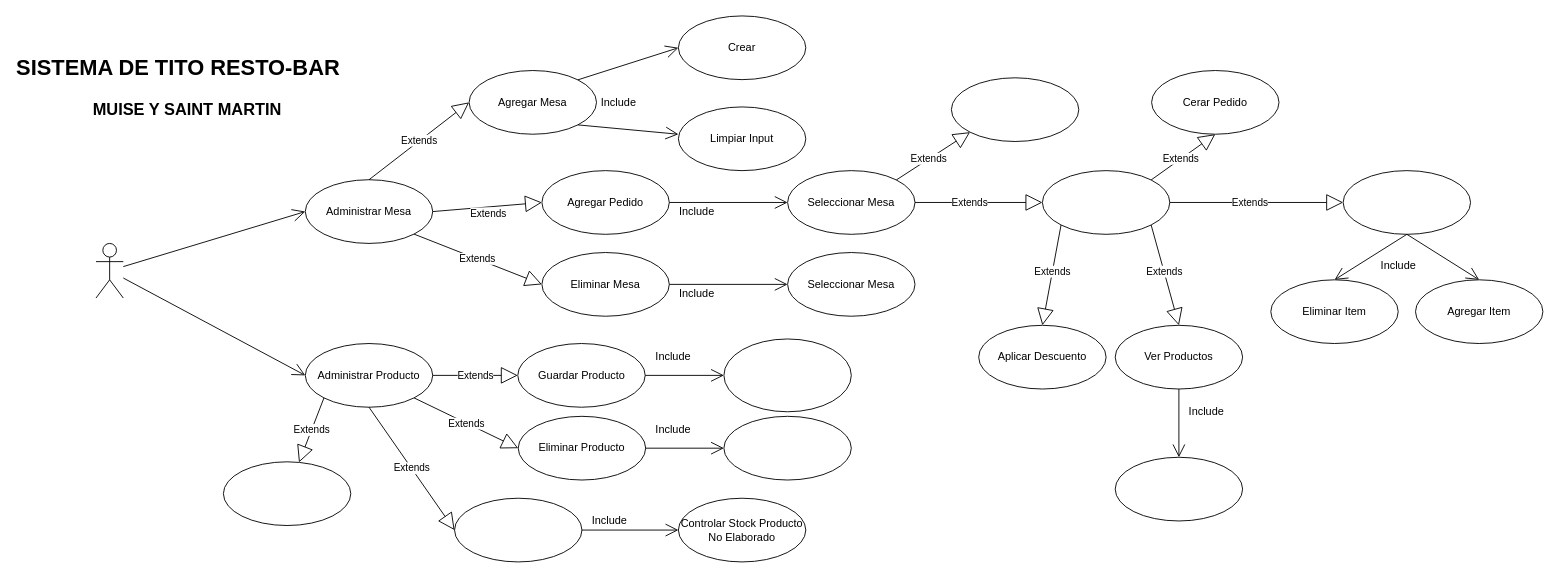
This 1559x578 diagram has some shape labels left out. Here are the shapes that lost their labels. From the top down, the centre of each, then its label:
the point at 1014,109: Eliminar Pedido
the point at 1105,202: Ver Pedido
the point at 1406,202: Modificar Pedido
the point at 787,375: Ingresar Nombre, Descripcion, Precio y Costo Marcar Elaboracion
the point at 787,447: Seleccionar Producto
the point at 286,493: Limpiar Inputs
the point at 1178,488: Ver Lista de Items
the point at 518,529: Administrar Stock
